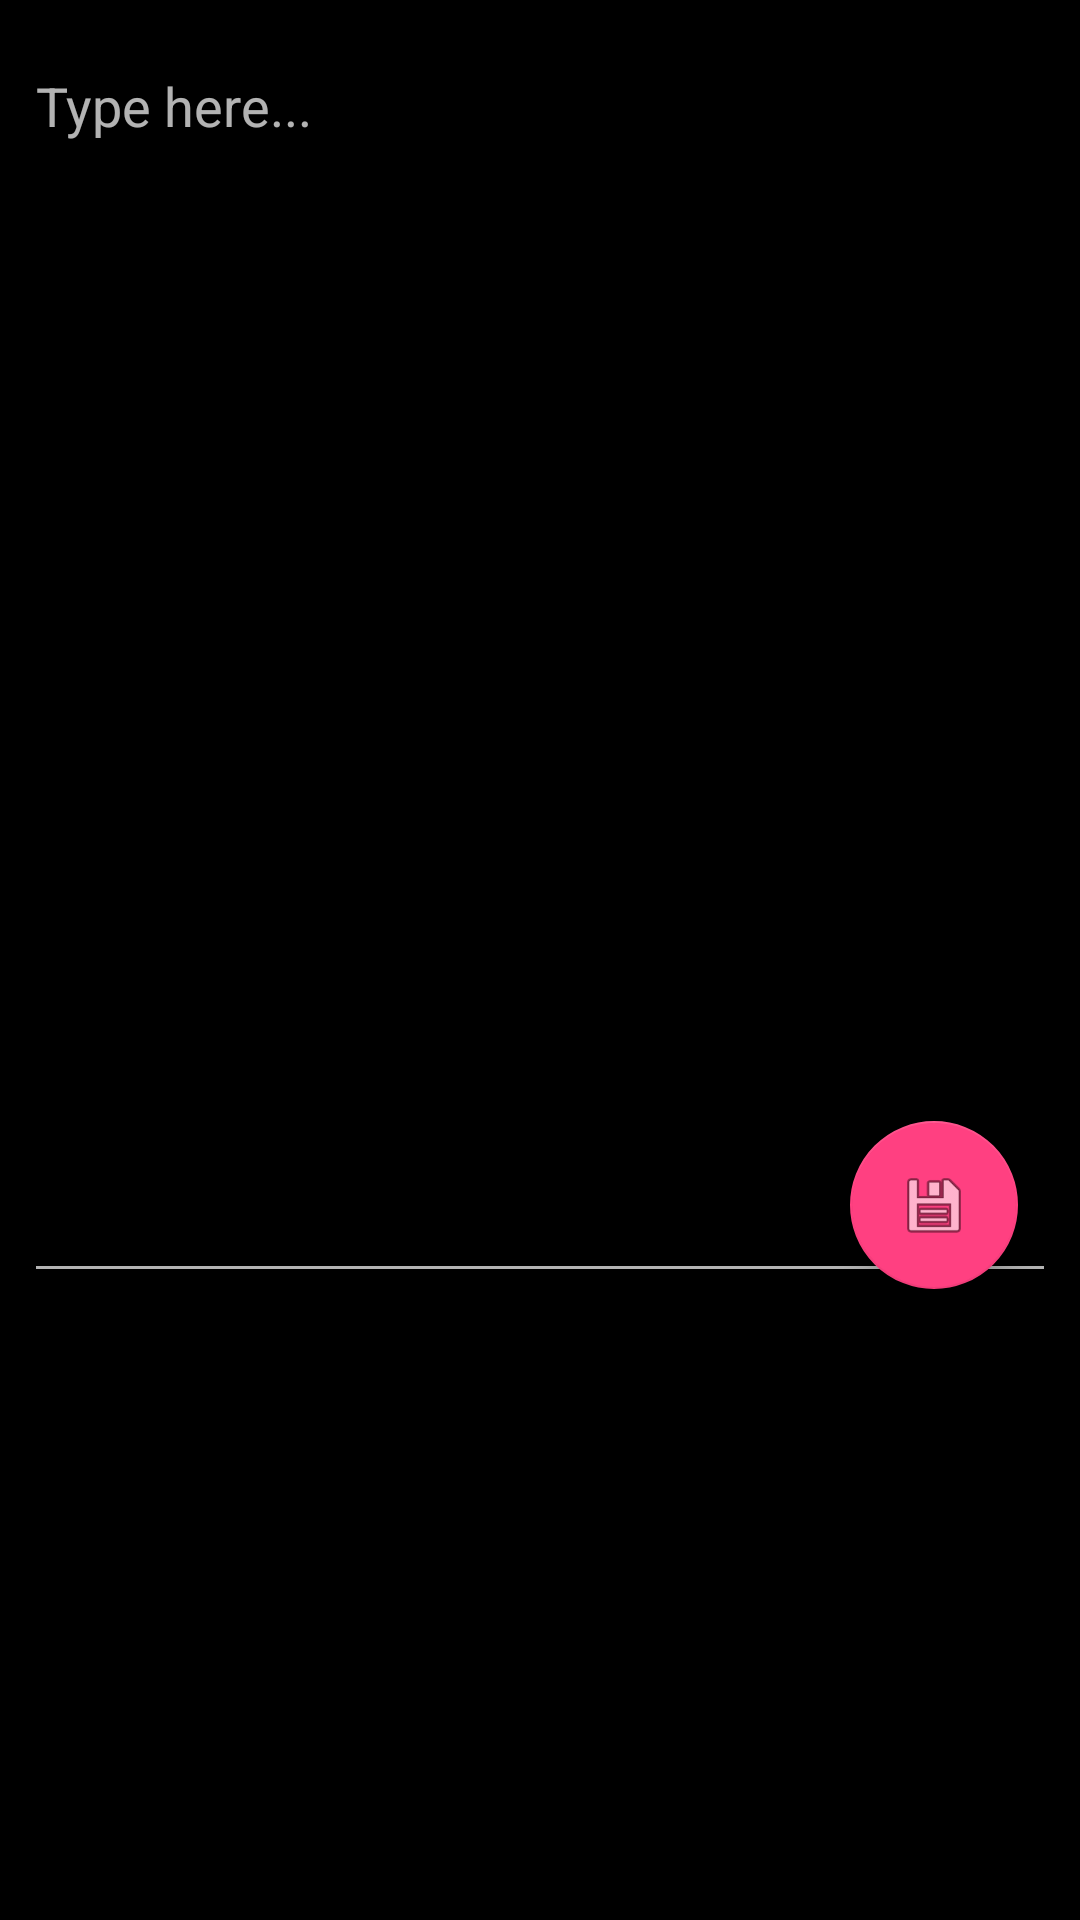

Screen size 1080 × 1920. Icon name, then its box in pixels as (x1, y1, x2, y2):
save: (850, 1121, 1018, 1289)
